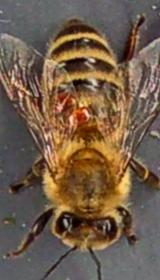varroa_mite: (68, 103, 96, 124)
